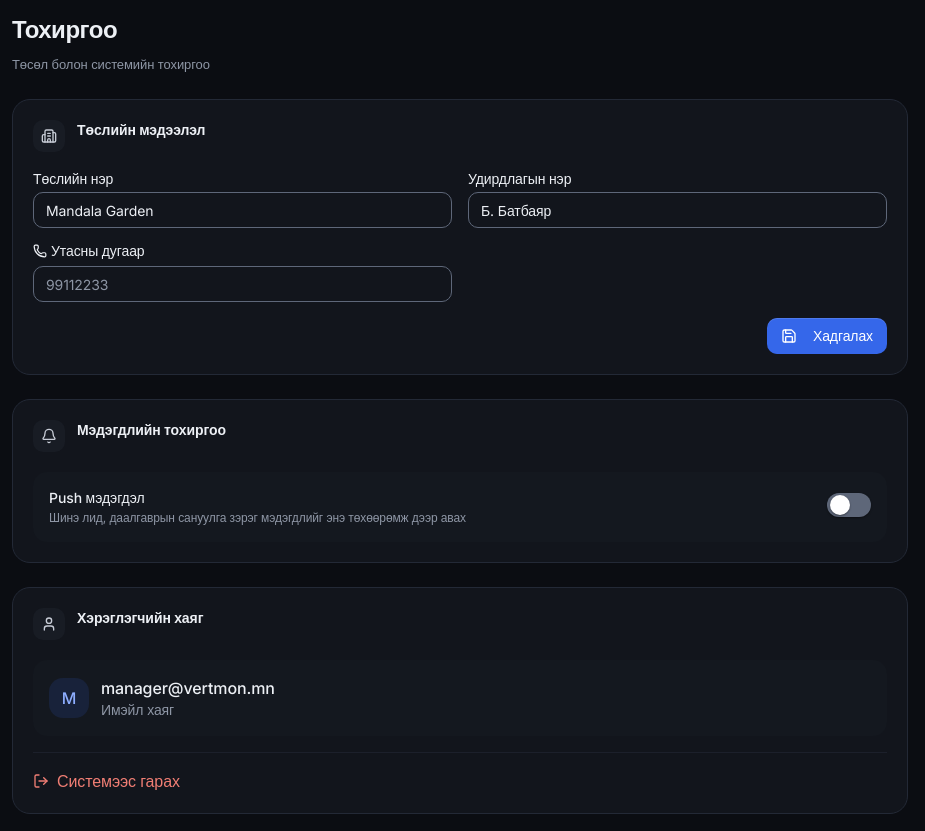
Test: settings page › shows only fields the shops table stores and sends exactly those to PATCH /api/shop
The image size is (925, 831).
Expected: the field labelled "Төслийн нэр" holds "Mandala Garden", [33,192,452,228]
Expected: the field labelled "Удирдлагын нэр" holds "Б. Батбаяр", [468,192,887,228]
Type " 99112233 " into the field labelled "Утасны дугаар" at (242, 284), box [33,266,452,302]
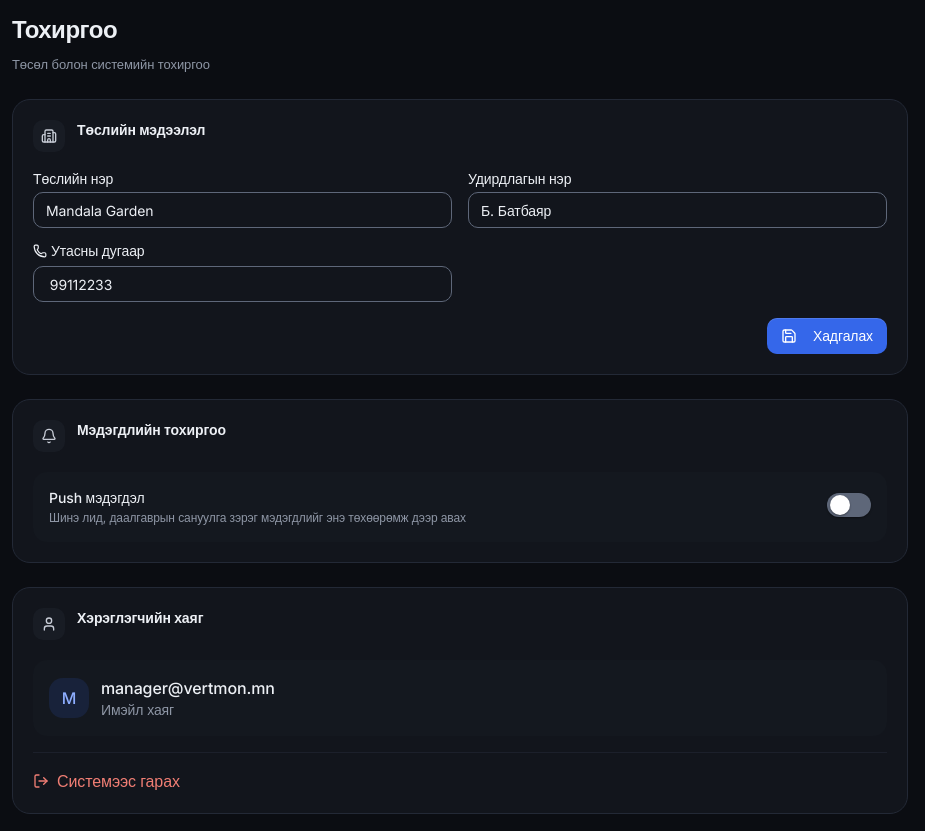
Click the button "Хадгалах" at (827, 336), box [767,318,887,354]
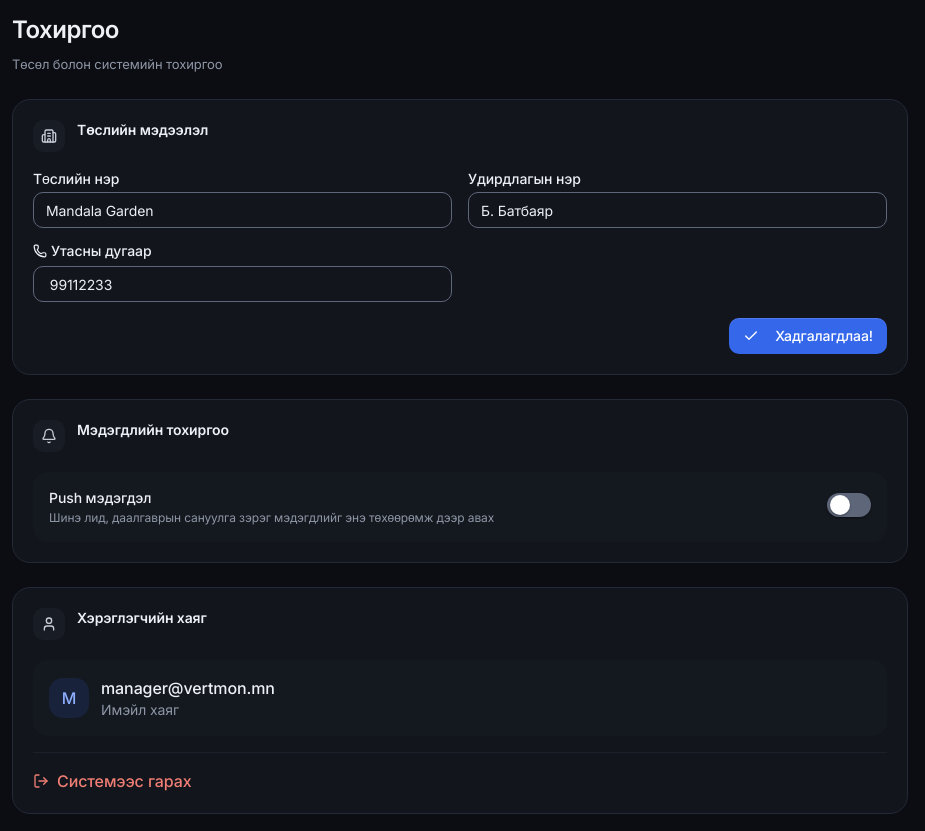
Expected: the button "Хадгалагдлаа!" is shown, [729,318,887,354]
